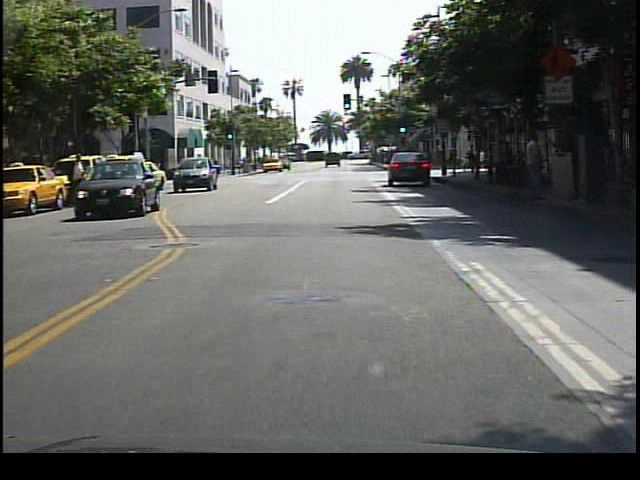person: (520, 129, 548, 205), (69, 149, 91, 207)
